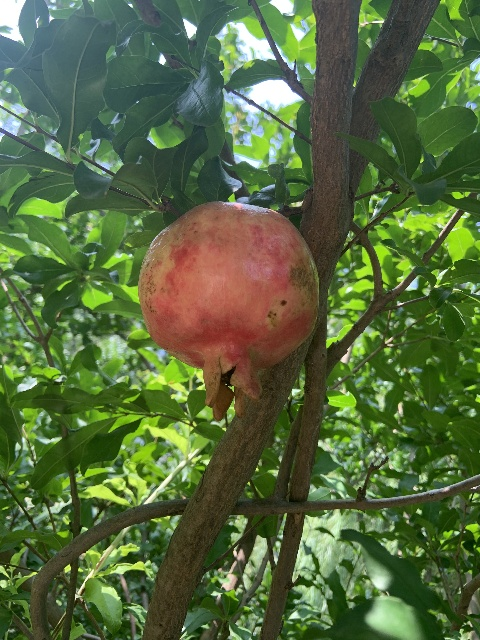ripe: (138, 202, 316, 421)
